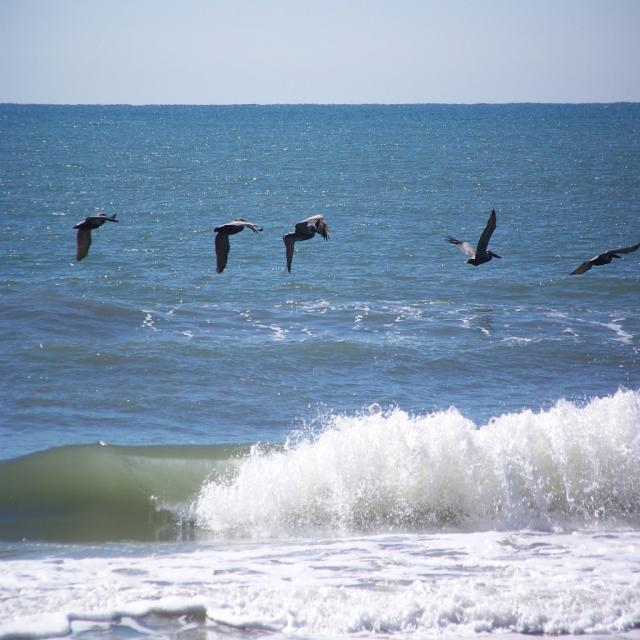bird: (448, 210, 503, 268), (279, 214, 330, 272), (210, 222, 259, 278), (574, 238, 640, 277), (72, 214, 122, 263)
